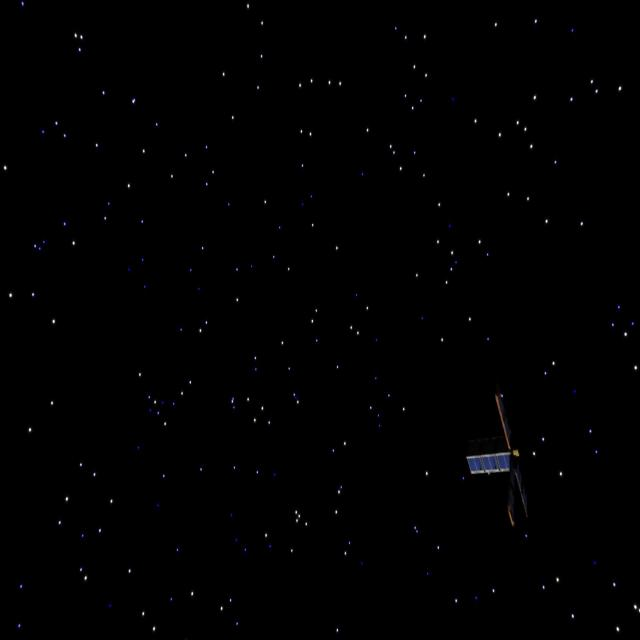medium_debris: (465, 387, 539, 539)
